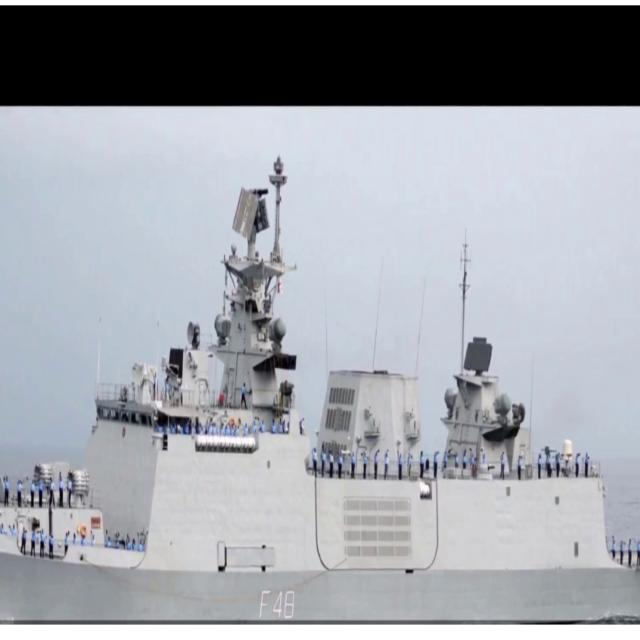OCR: (251, 586, 304, 623)
